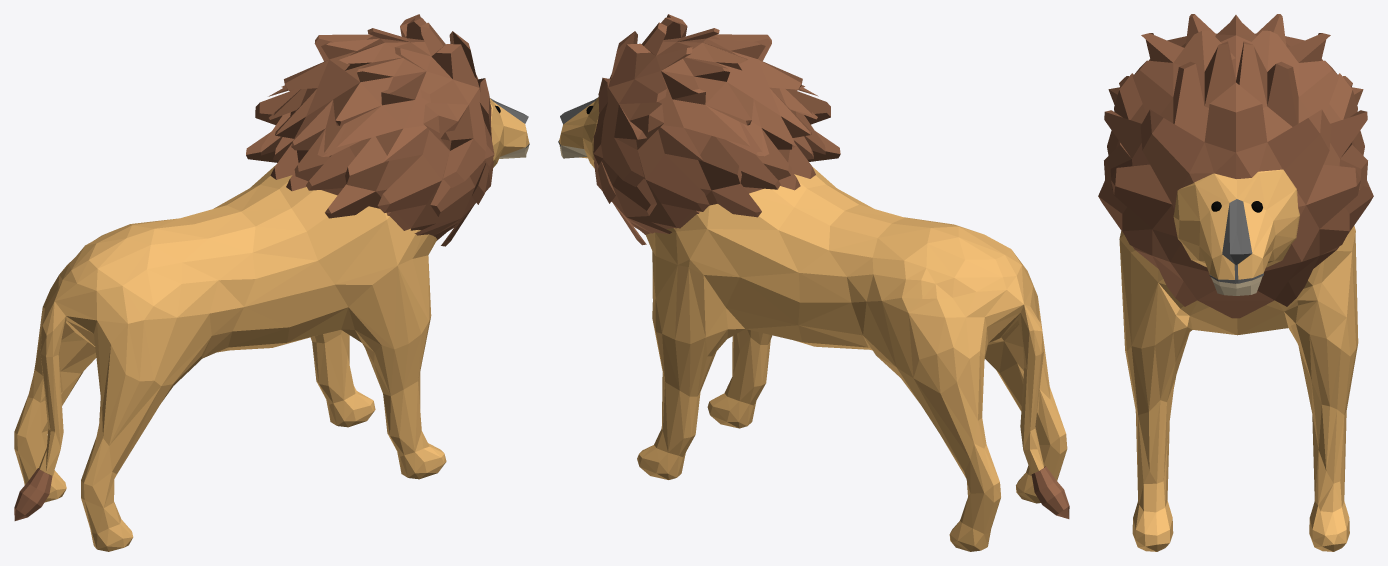
The model's file is Lion.fbx.
3 renders of one model, left to right at view 1: azimuth 30°, elevation 25°; view 2: azimuth 150°, elevation 25°; view 3: azimuth 270°, elevation 25°, orthographic. The views are drawn at different scales.
Parts seen in each view (by area): view 1: Body, Griva, Tail; view 2: Body, Griva, Tail; view 3: Griva, Body, Nose, Mouth.
Boxes of the visible parts, x1,y1,x2,y2 form: Body: [14, 98, 529, 551]; Griva: [246, 14, 494, 246]; Tail: [14, 468, 52, 520]; Body: [559, 97, 1067, 551]; Griva: [593, 14, 840, 245]; Tail: [1031, 466, 1069, 518]; Griva: [1098, 14, 1373, 318]; Body: [1119, 169, 1358, 551]; Nose: [1209, 199, 1263, 283]; Mouth: [1210, 275, 1262, 295].
Bounding box in the file's own units: 946 × 744 × 355.
